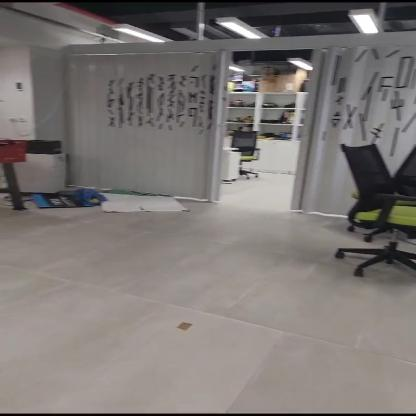open: (211, 50, 308, 206)
